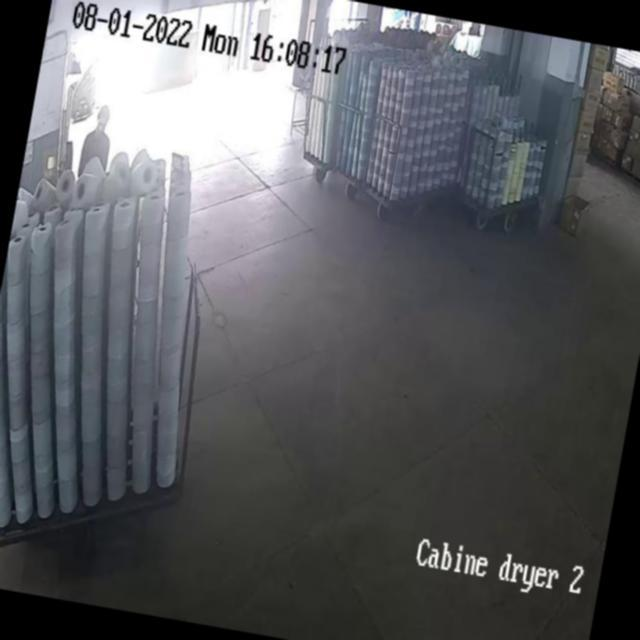person: (78, 106, 117, 167)
